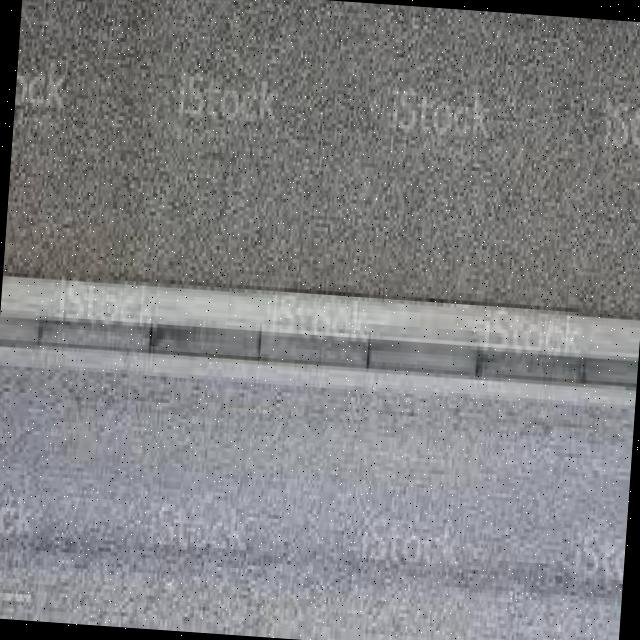curb: (1, 276, 640, 387)
